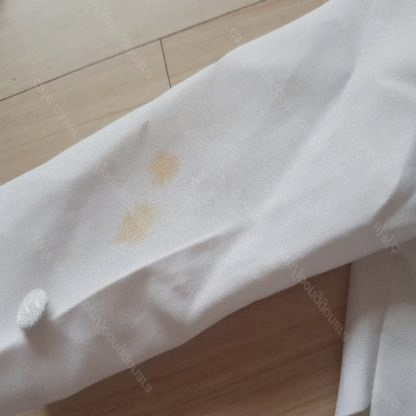kimchi: (109, 198, 154, 250), (148, 145, 179, 182)
